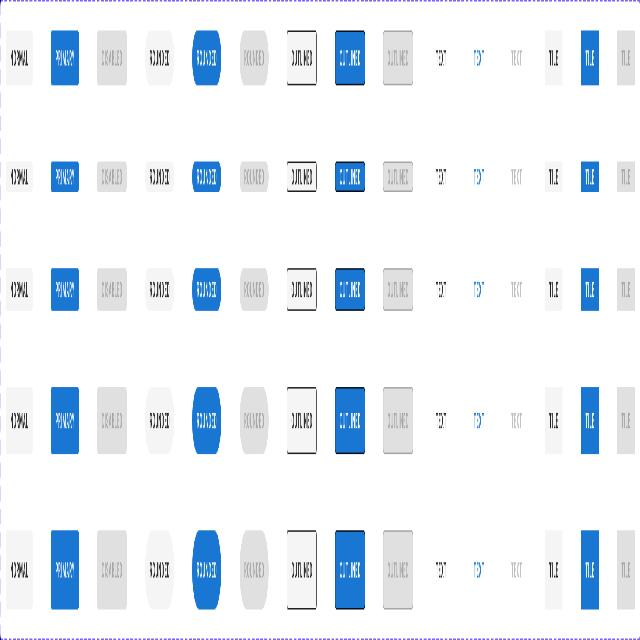QLabel: (8, 47, 29, 71), (387, 559, 408, 582), (291, 410, 312, 432), (339, 279, 360, 301), (387, 278, 408, 300), (387, 410, 408, 432), (196, 561, 217, 582), (291, 279, 312, 300), (291, 48, 312, 69), (149, 166, 169, 188), (150, 278, 170, 300), (196, 47, 216, 69), (340, 560, 360, 582), (386, 49, 408, 69), (101, 48, 122, 68), (101, 412, 122, 432), (101, 560, 122, 580), (243, 48, 264, 68), (291, 560, 312, 580), (339, 411, 360, 431), (290, 167, 312, 186), (54, 48, 74, 68), (102, 167, 122, 187), (149, 48, 169, 68), (149, 560, 169, 580), (244, 411, 264, 431), (9, 167, 28, 188), (196, 168, 217, 187), (10, 410, 28, 432), (148, 411, 170, 429), (9, 280, 28, 300), (9, 560, 28, 580), (55, 412, 74, 432), (196, 281, 216, 300), (196, 411, 216, 430), (244, 560, 264, 579), (243, 168, 264, 186), (339, 49, 360, 67), (339, 168, 360, 186), (387, 169, 408, 187), (102, 280, 122, 298), (244, 280, 264, 298), (55, 281, 74, 298), (54, 169, 74, 185), (55, 562, 74, 578), (510, 165, 522, 188), (472, 166, 484, 188), (511, 46, 522, 70), (435, 409, 446, 432), (472, 278, 484, 299), (435, 47, 446, 69), (435, 166, 446, 188), (435, 278, 446, 300), (473, 410, 484, 432), (511, 410, 522, 432), (584, 278, 595, 300), (472, 48, 484, 68), (548, 279, 558, 303), (473, 560, 484, 581), (511, 279, 522, 300), (511, 560, 522, 581), (549, 46, 558, 71), (435, 560, 446, 580), (548, 559, 558, 581), (548, 166, 558, 188), (584, 46, 594, 68), (584, 410, 594, 432), (584, 559, 594, 581), (548, 410, 558, 431), (620, 47, 630, 68), (584, 168, 595, 187), (621, 409, 630, 432), (620, 167, 630, 187), (621, 279, 630, 300), (621, 560, 630, 580)
VBtn: (286, 527, 318, 613), (382, 527, 413, 612), (334, 528, 365, 612), (96, 528, 127, 612), (240, 526, 268, 614), (144, 529, 174, 611), (192, 529, 221, 611), (382, 382, 413, 458), (6, 526, 33, 612), (96, 384, 127, 458), (286, 384, 317, 458), (51, 528, 79, 609), (335, 383, 365, 456), (192, 384, 221, 457), (239, 384, 268, 456), (50, 385, 79, 455), (145, 385, 174, 455), (286, 27, 317, 89), (6, 383, 33, 451), (239, 27, 269, 88), (382, 30, 413, 89), (96, 30, 128, 87), (335, 30, 365, 89), (50, 28, 79, 87), (544, 526, 563, 616), (5, 29, 33, 90), (145, 29, 174, 87), (192, 30, 220, 87), (580, 529, 599, 612), (335, 264, 365, 314), (286, 266, 317, 313), (382, 266, 413, 313), (97, 266, 127, 314), (145, 264, 174, 313), (616, 528, 634, 606), (240, 264, 268, 314), (192, 265, 221, 313), (580, 384, 599, 457), (5, 264, 32, 312), (544, 384, 562, 453), (51, 267, 78, 312), (616, 384, 634, 450), (334, 157, 366, 194), (286, 157, 317, 195), (506, 149, 527, 205), (544, 28, 563, 88), (97, 158, 127, 196), (382, 158, 412, 195), (239, 159, 269, 196), (432, 540, 451, 596), (616, 30, 635, 85), (50, 159, 79, 195), (192, 158, 221, 194), (470, 262, 490, 314), (580, 29, 598, 86), (431, 393, 450, 447), (145, 159, 174, 194), (470, 34, 488, 87), (432, 32, 450, 85), (507, 37, 525, 89), (432, 266, 450, 318), (470, 544, 488, 595), (580, 266, 599, 314), (470, 152, 489, 200), (7, 159, 33, 194), (470, 399, 489, 445), (508, 268, 526, 316), (509, 544, 525, 596), (544, 265, 562, 310), (616, 266, 634, 310), (433, 151, 449, 200), (508, 398, 524, 441), (544, 158, 562, 196), (580, 160, 599, 193), (616, 159, 634, 193)
